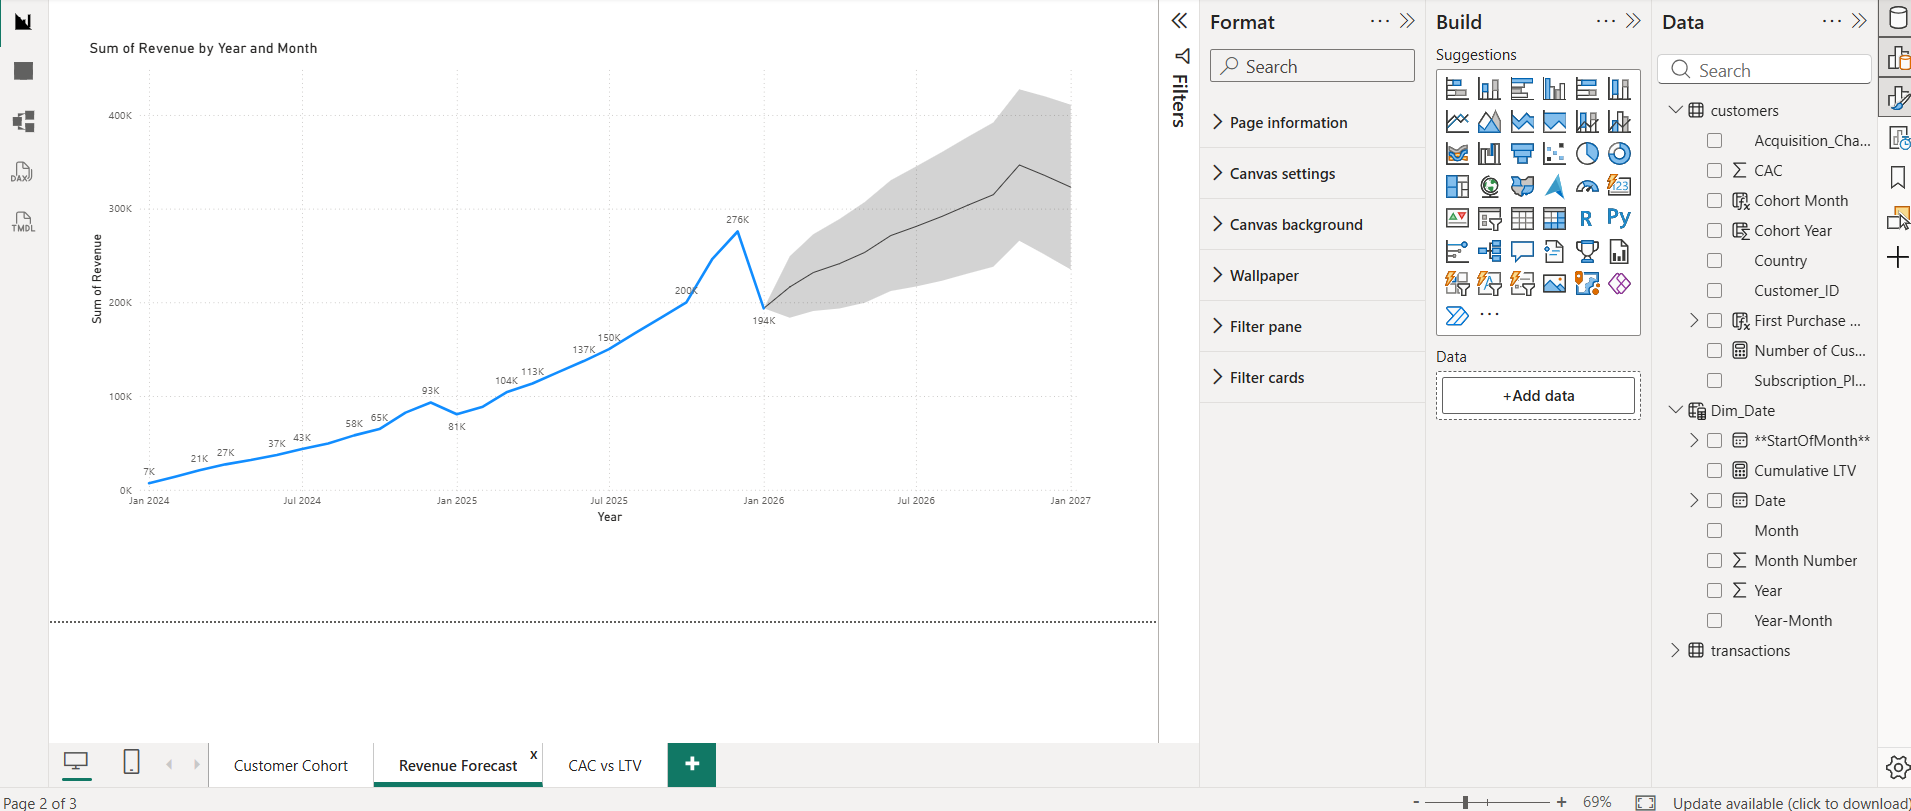

The dashboard page shown, as its layout file describes it:
{"tool":"powerbi","page":{"name":"Revenue Forecast","canvas":[1280,720],"ordinal":1},"visuals":[{"type":"lineChart","fields":{"Y":["Sum(transactions.Revenue)"],"Category":["Dim_Date.**StartOfMonth**.Variation.Date Hierarchy.Year","Dim_Date.**StartOfMonth**.Variation.Date Hierarchy.Month"]},"box":[41.6,48.9,1166.6,563.7],"z":0}]}

Visuals, with their boxes on the page's 1280x720 design canvas (x1, y1, x2, y2). These are canvas units, not pixel positions in the 1911x811 screenshot, which may show the page scaled, cropped or inside an application window:
lineChart - Sum(transactions.Revenue) x Dim_Date.**StartOfMonth**.Variation.Date Hierarchy.Year: x1=42 y1=49 x2=1208 y2=613
